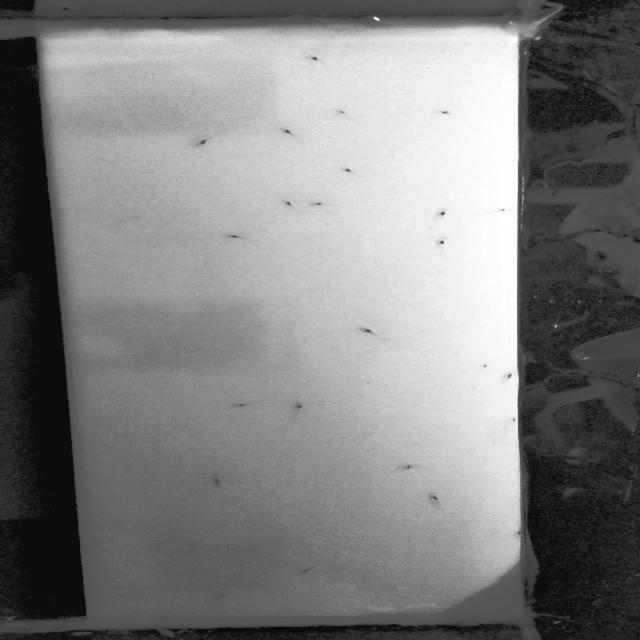shrimp: (279, 124, 309, 140), (304, 54, 330, 68), (218, 230, 246, 242), (333, 164, 358, 177), (192, 137, 216, 150), (432, 234, 451, 249), (331, 106, 356, 117), (272, 197, 294, 208), (215, 591, 237, 602), (314, 200, 331, 214), (355, 327, 375, 338), (425, 494, 447, 504), (210, 476, 230, 487), (299, 566, 319, 576), (437, 107, 455, 118), (431, 208, 449, 218), (237, 399, 253, 410), (478, 362, 492, 372), (156, 612, 169, 620), (504, 372, 513, 382), (403, 464, 413, 470), (297, 403, 305, 409)
